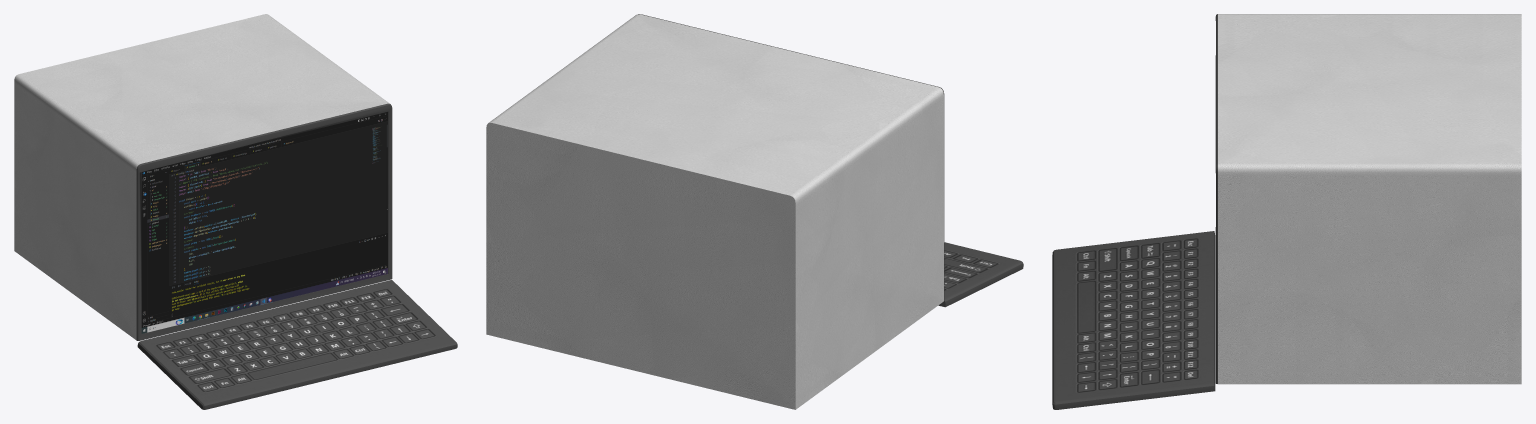
The model's file is computer2.glb.
3 renders of one model, left to right at view 1: azimuth 30°, elevation 25°; view 2: azimuth 150°, elevation 25°; view 3: azimuth 270°, elevation 25°, orthographic. The views are drawn at different scales.
Parts seen in each view (by area): view 1: Object002; view 2: Object002; view 3: Object002.
Boxes of the visible parts, x1,y1,x2,y2 form: Object002: [14, 14, 457, 409]; Object002: [486, 14, 1023, 409]; Object002: [1052, 14, 1521, 409].
Bounding box in the file's own units: 139 × 103 × 179.
Materials: 4 (4 with a texture image).
